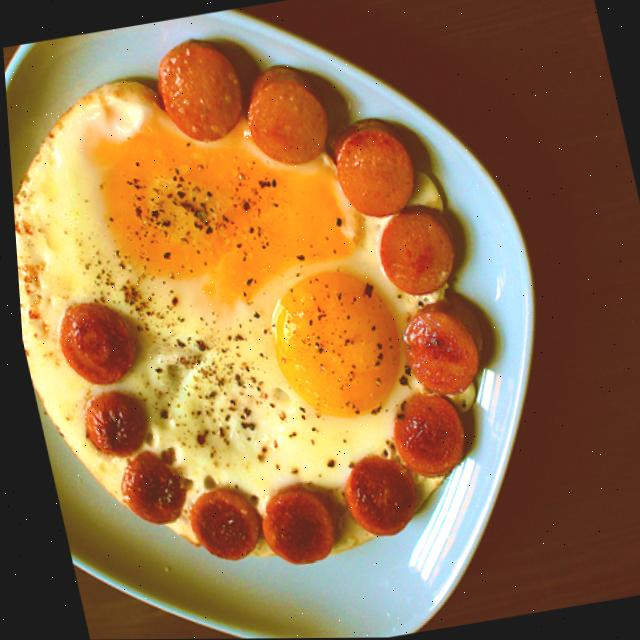鸡蛋料理: (41, 0, 557, 534)
